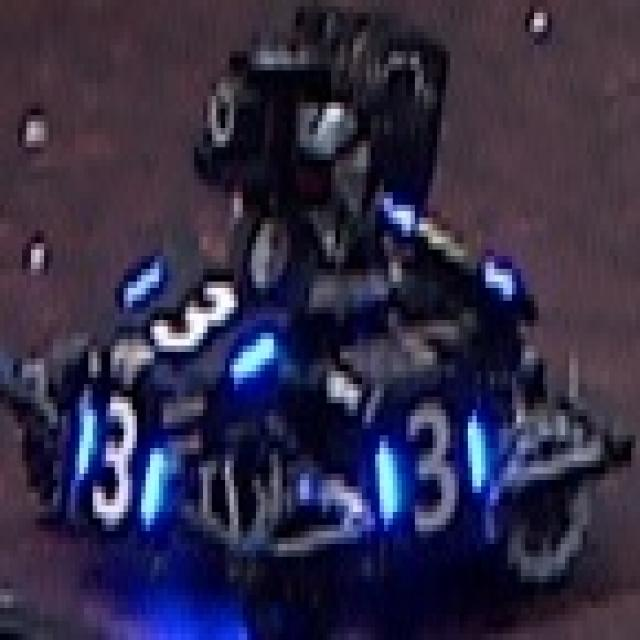B3: (124, 244, 269, 390), (353, 390, 490, 512), (62, 391, 159, 518)
